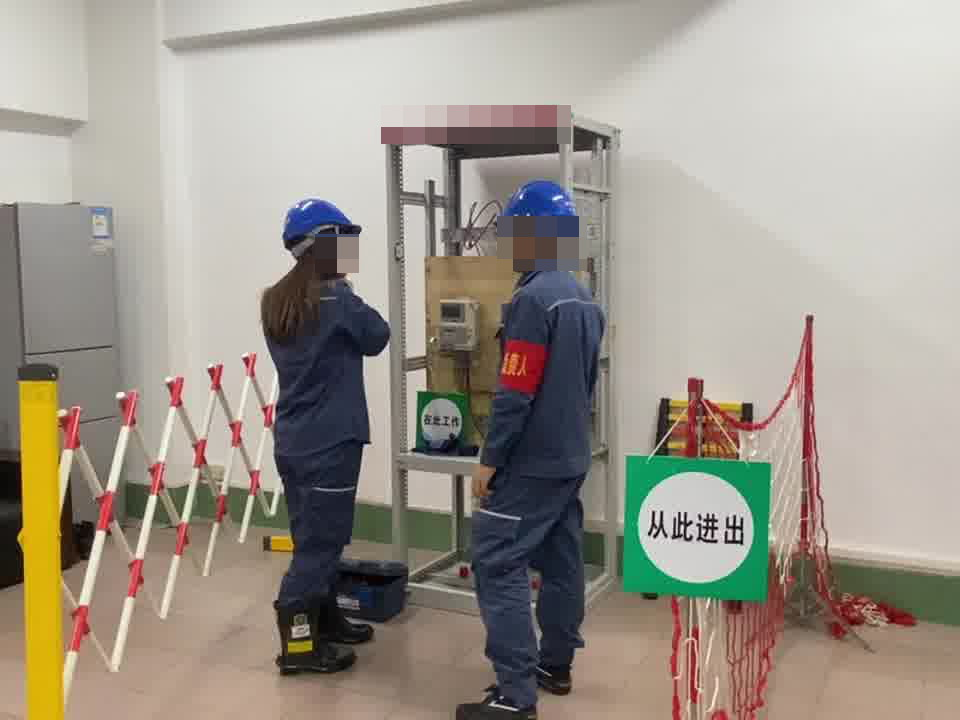badge: (499, 340, 550, 397)
downsuit: (470, 487, 588, 682), (272, 450, 367, 609)
hair: (257, 198, 362, 336)
halt: (494, 179, 581, 267)
hand: (467, 461, 502, 501)
inear: (512, 224, 549, 265)
intosign: (624, 454, 773, 605)
person: (454, 177, 609, 714), (224, 197, 367, 637)
shoe: (263, 601, 371, 673)
upsuit: (485, 260, 604, 474), (257, 283, 389, 446)
worksign: (415, 391, 472, 457)
